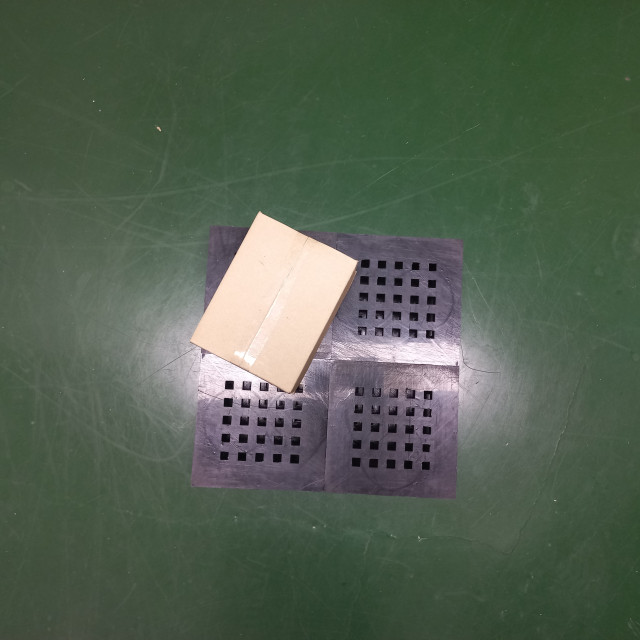box: (188, 207, 359, 398)
pallet: (185, 217, 466, 503)
